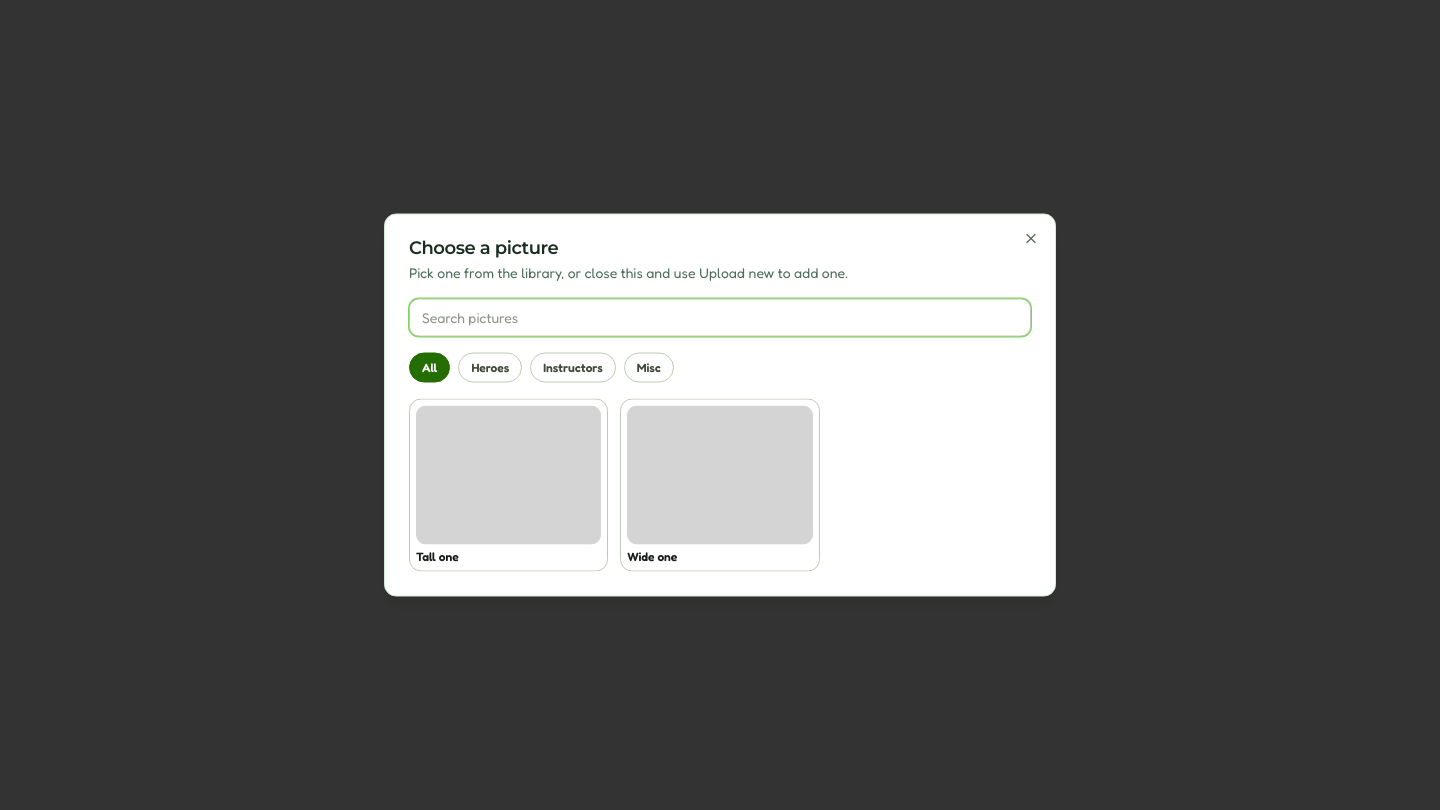
Test: MediaPicker › lists pictures and filters by typed search
This screenshot has width=1440, height=810.
Expected: the text "Tall one" is shown, x1=416 y1=548 x2=459 y2=564
Expected: the text "Wide one" is shown, x1=627 y1=548 x2=677 y2=564
Type "wide" into the search field with placeholder "Search pictures" at (720, 318), box x1=409 y1=298 x2=1031 y2=336
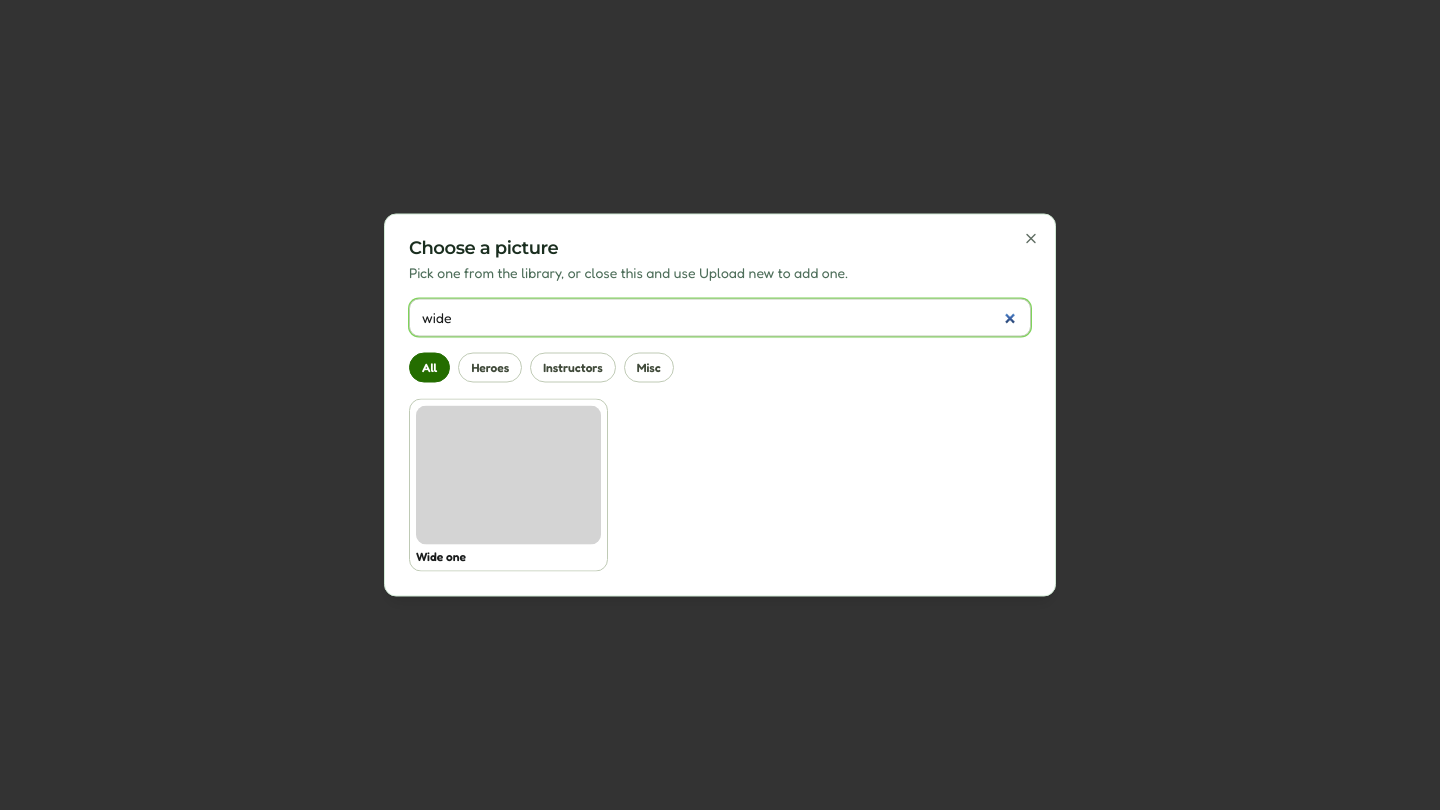
Expected: the text "Wide one" is shown, x1=416 y1=548 x2=466 y2=564
Expected: the button "Tall one" is gone
